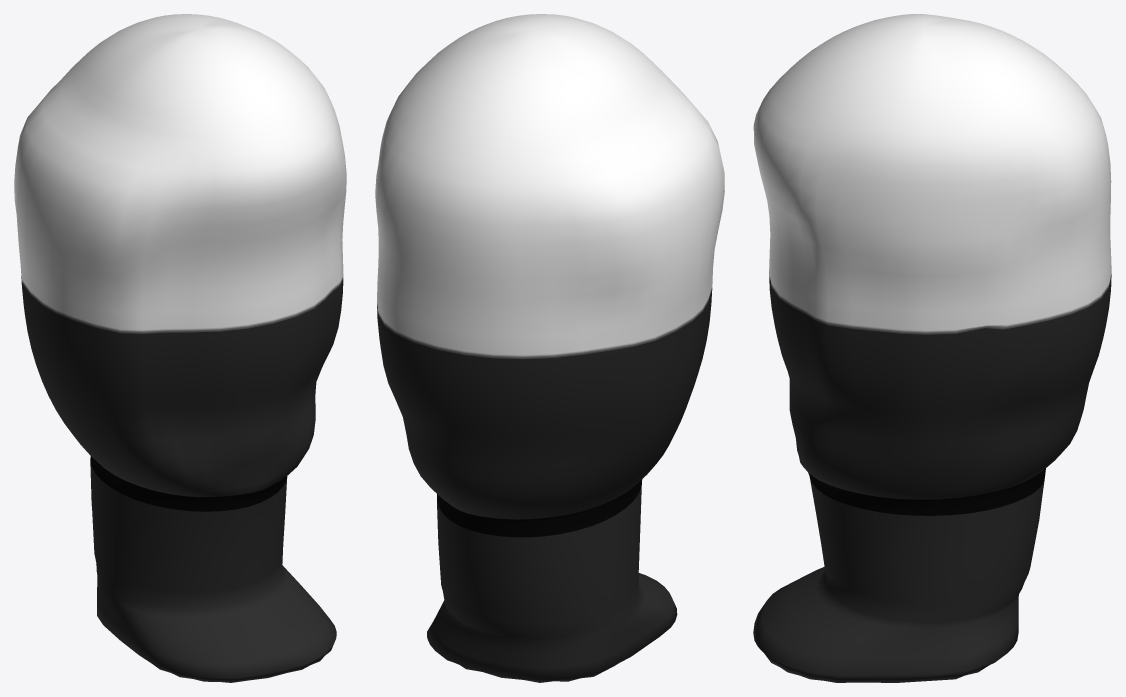
The model's file is baby leg.fbx.
The picture shows the model from 3 angles, left to right: view 1: azimuth 30°, elevation 25°; view 2: azimuth 150°, elevation 25°; view 3: azimuth 270°, elevation 25°; orthographic projection. The views are drawn at different scales.
Parts seen in each view (by area): view 1: pSphere10; view 2: pSphere10; view 3: pSphere10.
Boxes of the visible parts, bbox=[...] form: pSphere10: bbox=[14, 14, 346, 682]; pSphere10: bbox=[375, 14, 724, 682]; pSphere10: bbox=[753, 14, 1111, 682].
Size of the model in its own units: 0.7962 by 1.61 by 0.8477.
Materials: 1 (1 with a texture image).
